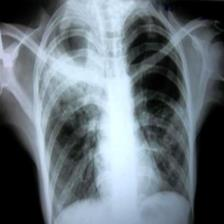tuberculosis: (33, 5, 195, 224)
